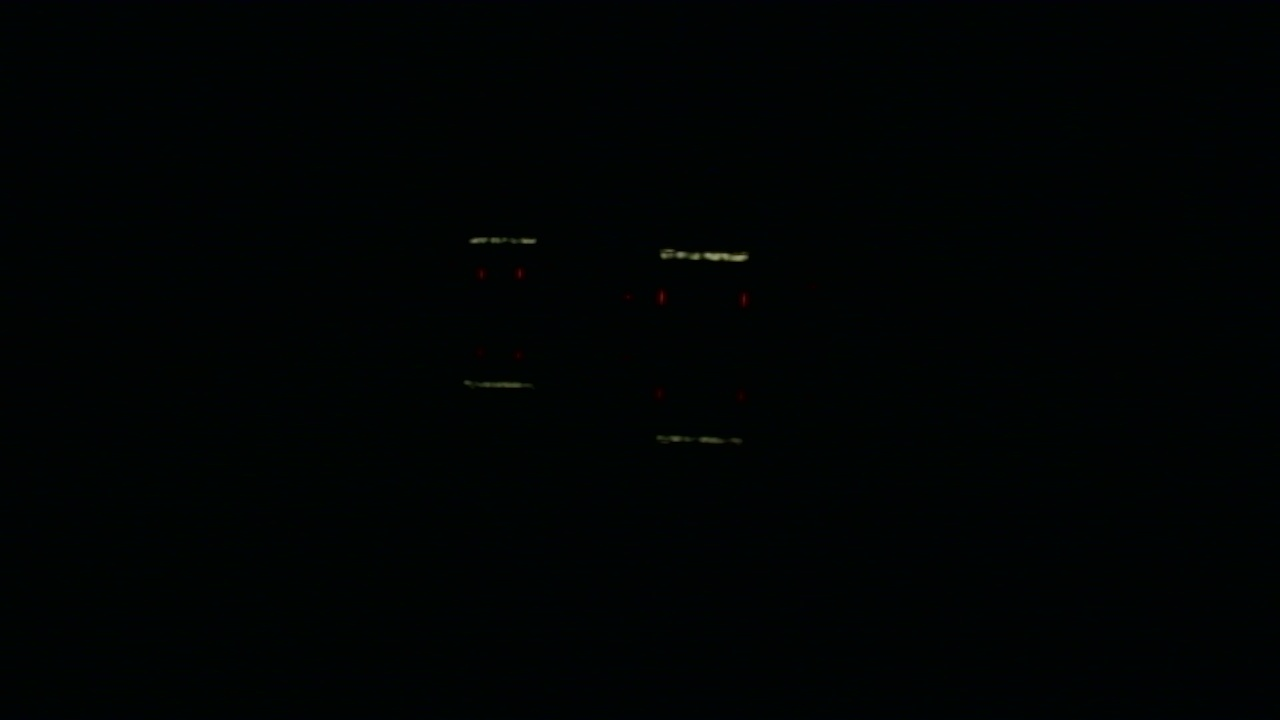pair1: (479, 267, 523, 277)
pair2: (658, 291, 747, 306)
